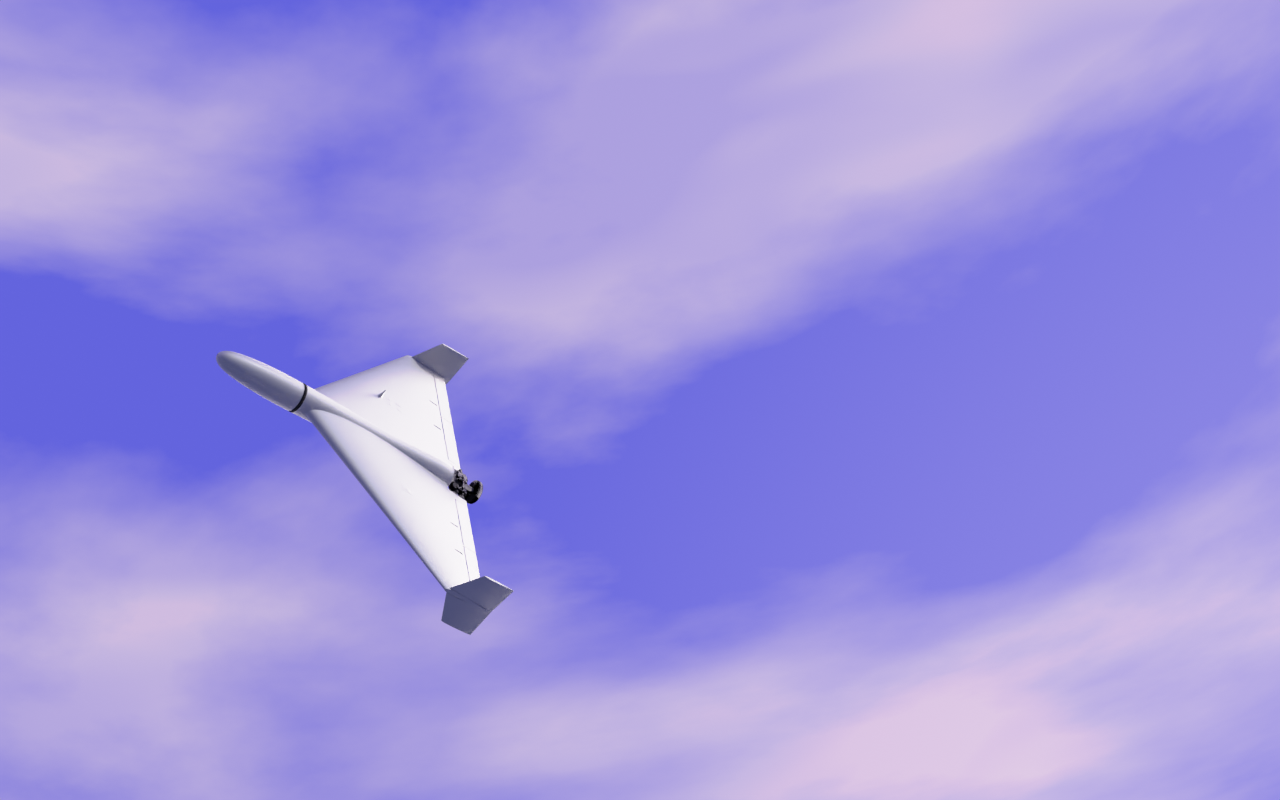shahed: (216, 344, 516, 637)
